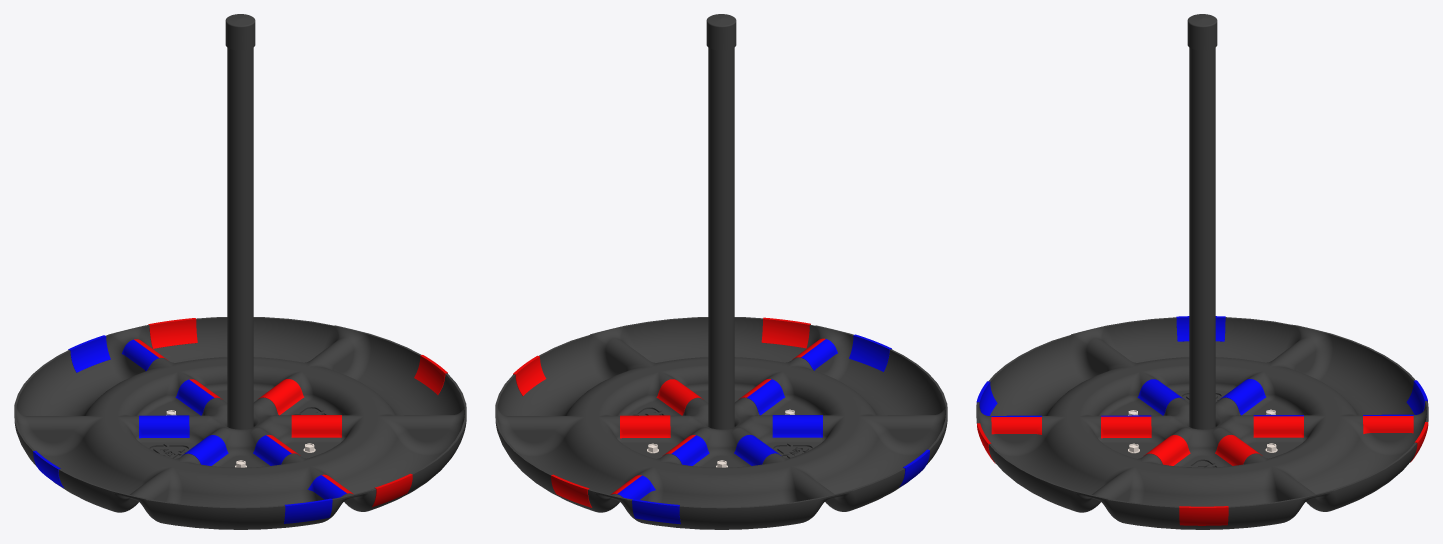
The model's file is joint shipping hubs v4.fbx.
The picture shows the model from 3 angles, left to right: view 1: azimuth 30°, elevation 25°; view 2: azimuth 150°, elevation 25°; view 3: azimuth 270°, elevation 25°; orthographic projection.
Visible parts, largest first — view 1: Body1 (×16); view 2: Body1 (×16); view 3: Body1 (×13).
Part boxes in pixels (x1,y1,x2,y2): Body1 (×16): (14, 14, 466, 529); Body1 (×16): (495, 14, 947, 529); Body1 (×13): (976, 14, 1428, 529).
Bounding box in the file's own units: 18.02 × 20.23 × 17.94.
